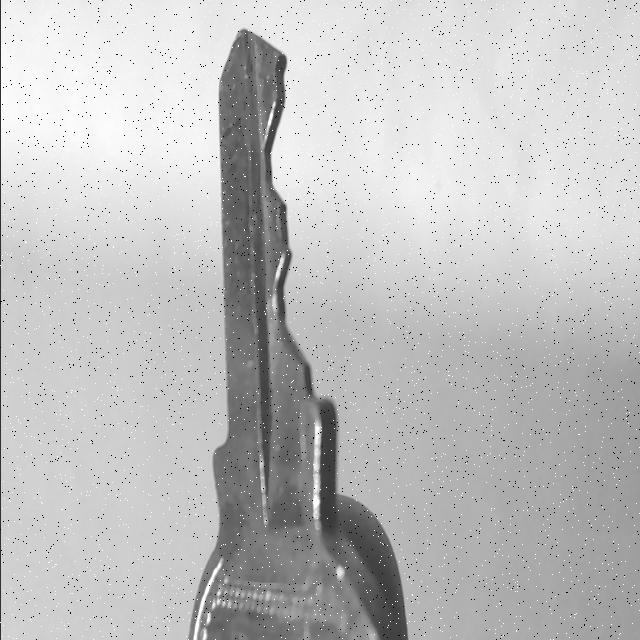key: (188, 29, 406, 640)
